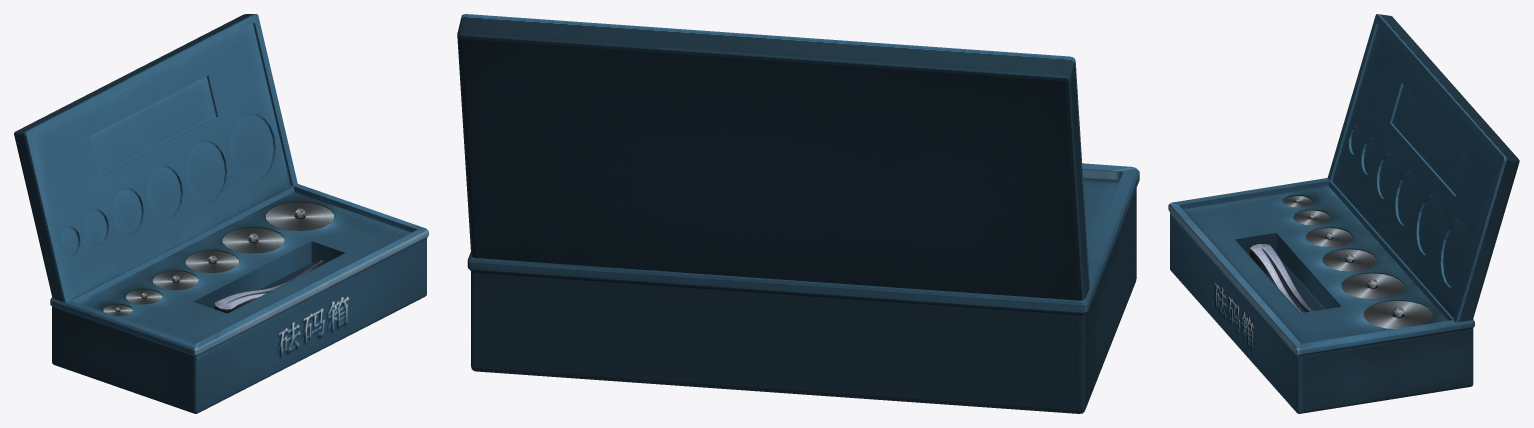
Rendered from chemical_ Farmar box.FBX.
3 views of the same model, side by side, from view 1: azimuth 30°, elevation 25°; view 2: azimuth 150°, elevation 25°; view 3: azimuth 270°, elevation 25° (orthographic). The views are drawn at different scales.
Visible parts, largest first — view 1: chemical_ Farmar box; view 2: chemical_ Farmar box; view 3: chemical_ Farmar box.
Part boxes in pixels (x1,y1,x2,y2): chemical_ Farmar box: (14, 14, 428, 413); chemical_ Farmar box: (457, 14, 1139, 413); chemical_ Farmar box: (1168, 14, 1519, 413).
Size of the model in its own units: 19.52 by 11.34 by 16.08.
8 materials, 8 textured.
